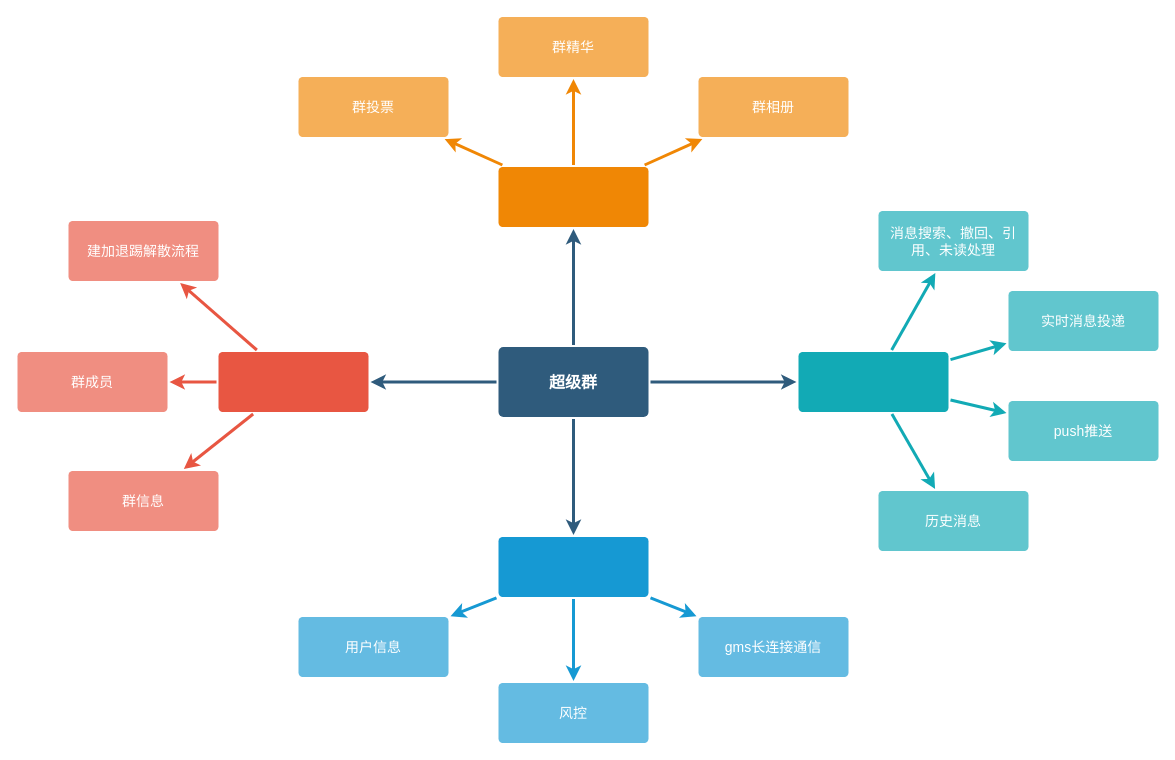
The diagram is 1175 pixels wide and 760 high, and some of its shapes have lost their labels. The centre of each missing label's shape, as x and y in pixels:
上层业务: (573,196)
底层支撑: (573,566)
消息: (873,382)
群管理: (293,382)
